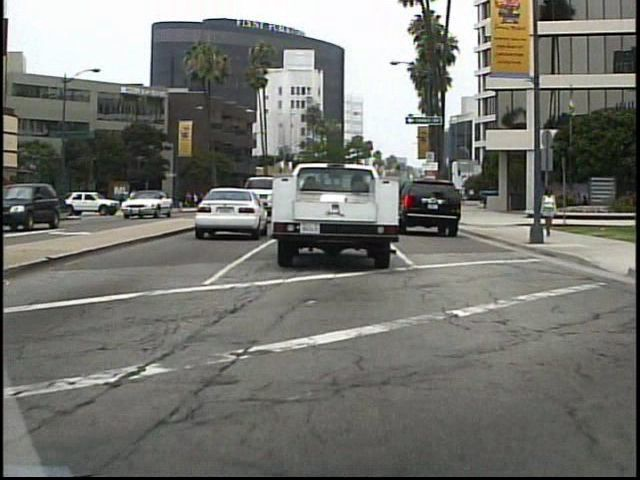person: (540, 182, 560, 244), (124, 184, 139, 216), (121, 190, 127, 215)
